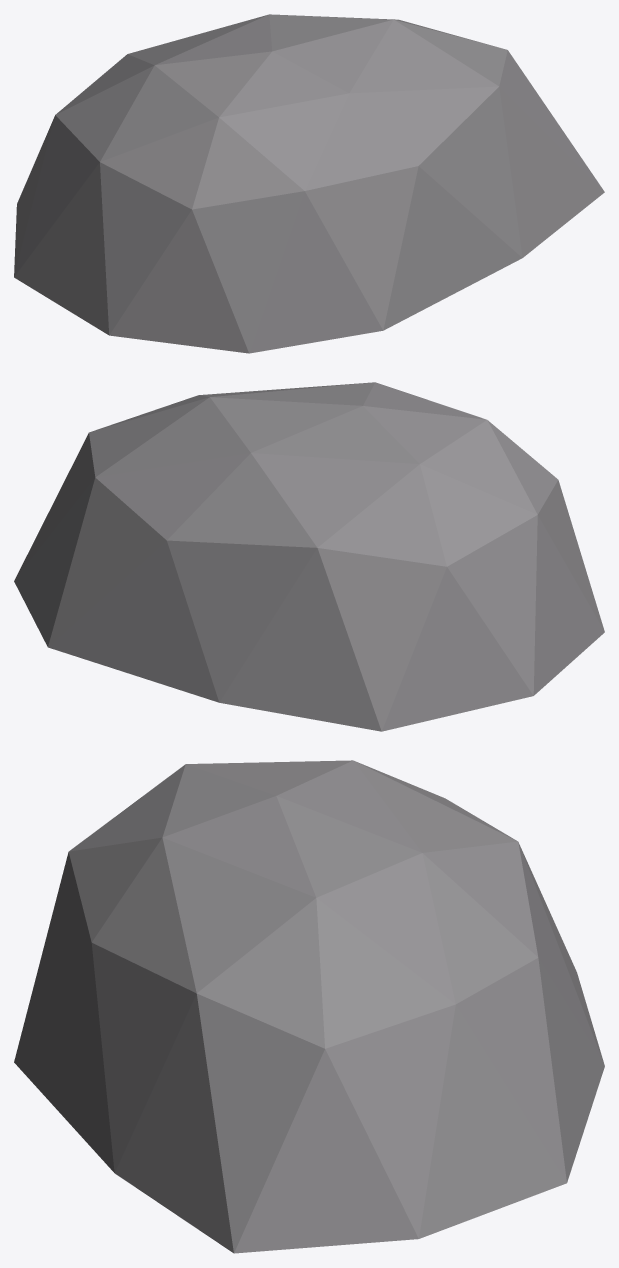
Rendered from Rock_Round_s_02.fbx.
The picture shows the model from 3 angles, top to bottom: view 1: azimuth 30°, elevation 25°; view 2: azimuth 150°, elevation 25°; view 3: azimuth 270°, elevation 25°; orthographic projection. The views are drawn at different scales.
Parts seen in each view (by area): view 1: Rock_Round_s_02; view 2: Rock_Round_s_02; view 3: Rock_Round_s_02.
Part boxes in pixels (left/top/right/bottom): Rock_Round_s_02: left=14, top=14, right=604, bottom=353; Rock_Round_s_02: left=14, top=382, right=604, bottom=731; Rock_Round_s_02: left=14, top=760, right=604, bottom=1253.
Bounding box in the file's own units: 0.5581 × 0.2361 × 0.4234.
